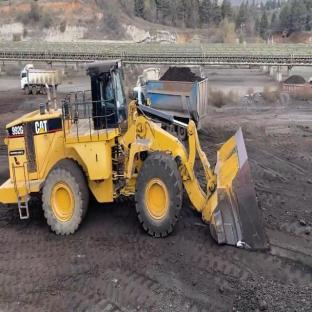Vehicle: (134, 68, 215, 113), (15, 60, 63, 95)
